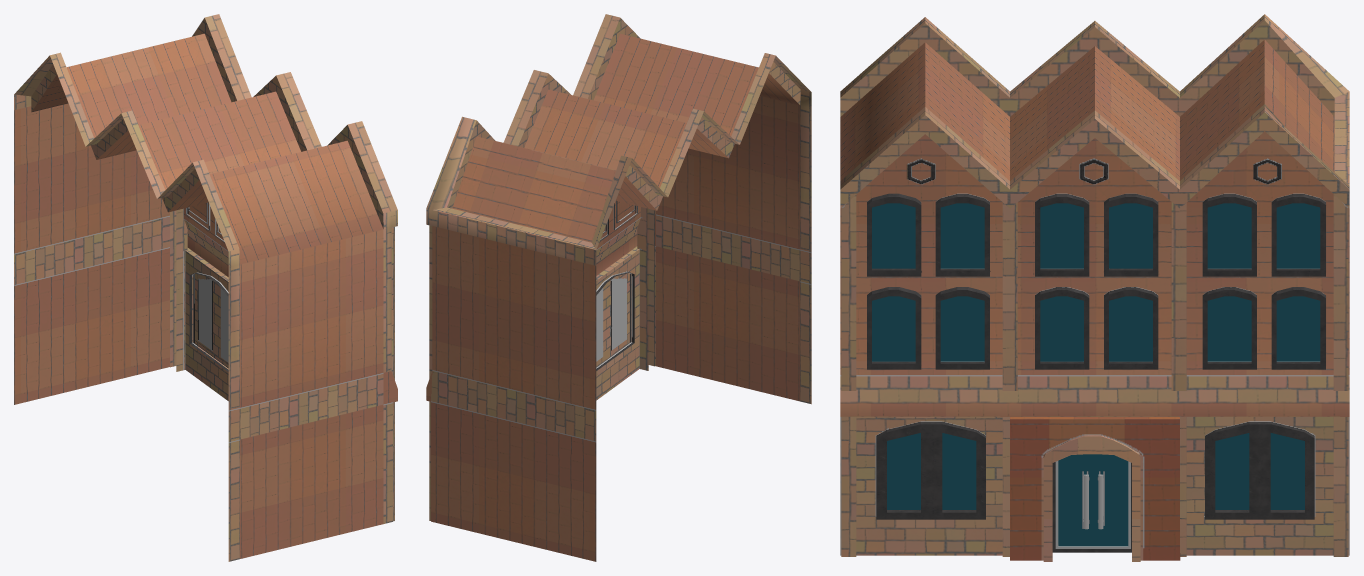
The model's file is Bat_Joliette_2.1.fbx.
The picture shows the model from 3 angles, left to right: view 1: azimuth 30°, elevation 25°; view 2: azimuth 150°, elevation 25°; view 3: azimuth 270°, elevation 25°; orthographic projection. The views are drawn at different scales.
Parts seen in each view (by area): view 1: Bat_Joliette_2.1; view 2: Bat_Joliette_2.1; view 3: Bat_Joliette_2.1.
Boxes of the visible parts, box(x1,y1,x2,y2) form: Bat_Joliette_2.1: box(14, 14, 397, 561); Bat_Joliette_2.1: box(426, 14, 811, 561); Bat_Joliette_2.1: box(840, 14, 1349, 561).
Size of the model in its own units: 743 by 1517 by 1569.
